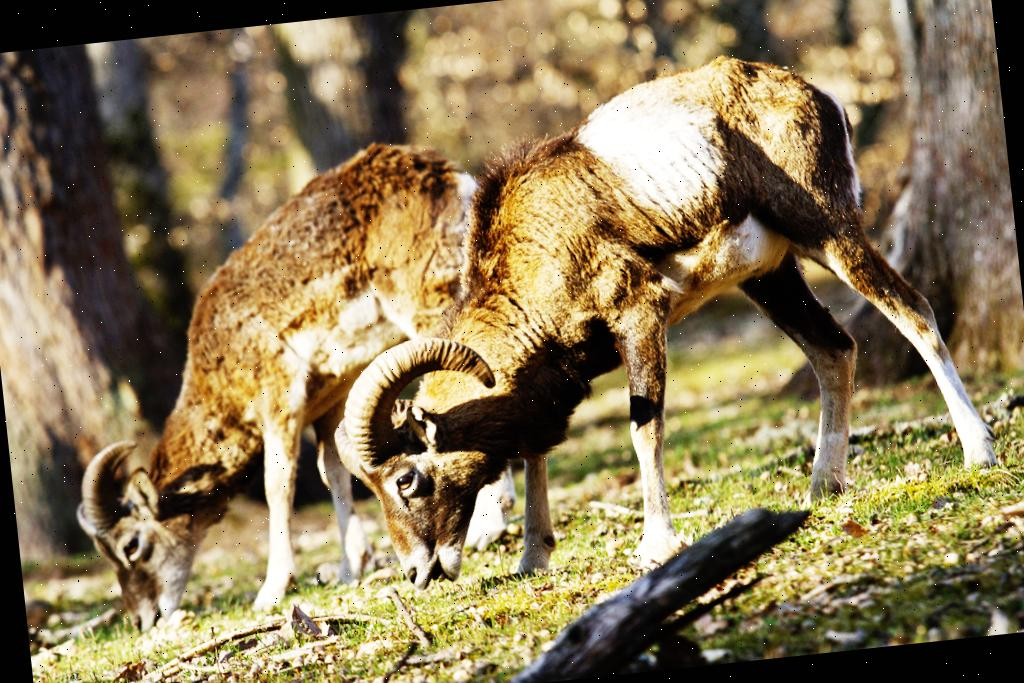Sheep: (293, 25, 1008, 602), (34, 127, 528, 636)
